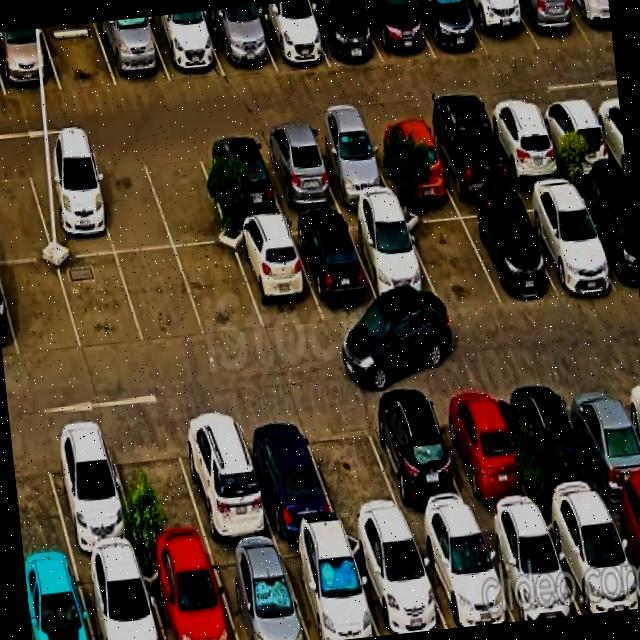empty: (299, 402, 407, 529), (106, 423, 209, 554), (401, 205, 500, 310), (141, 142, 230, 247), (87, 151, 173, 252), (116, 248, 205, 344), (57, 253, 144, 351), (10, 431, 72, 565), (175, 243, 264, 336), (0, 260, 81, 358), (0, 161, 53, 261), (42, 22, 116, 90)
occupied: (361, 392, 474, 527), (429, 385, 536, 518), (172, 409, 275, 546), (504, 377, 605, 510), (40, 426, 140, 559), (236, 409, 339, 538), (476, 514, 581, 621), (411, 520, 514, 628), (516, 185, 618, 294), (541, 502, 640, 614), (346, 530, 447, 635), (456, 198, 556, 303), (278, 535, 378, 640), (559, 373, 640, 501), (230, 221, 323, 332), (288, 214, 383, 321), (344, 210, 442, 312), (208, 544, 309, 640), (25, 156, 114, 258), (140, 549, 237, 640), (422, 111, 512, 197), (197, 136, 284, 223), (75, 556, 164, 640), (573, 181, 639, 292), (255, 131, 341, 215), (308, 125, 394, 206), (366, 118, 453, 197), (483, 103, 566, 185), (535, 97, 618, 176), (147, 11, 224, 81), (24, 562, 93, 640), (251, 1, 329, 70), (303, 0, 383, 67), (95, 17, 170, 86), (202, 6, 276, 75), (360, 0, 435, 64), (412, 0, 488, 59), (461, 0, 539, 57), (0, 28, 60, 95), (513, 0, 590, 49), (605, 497, 640, 590), (567, 0, 613, 43)
